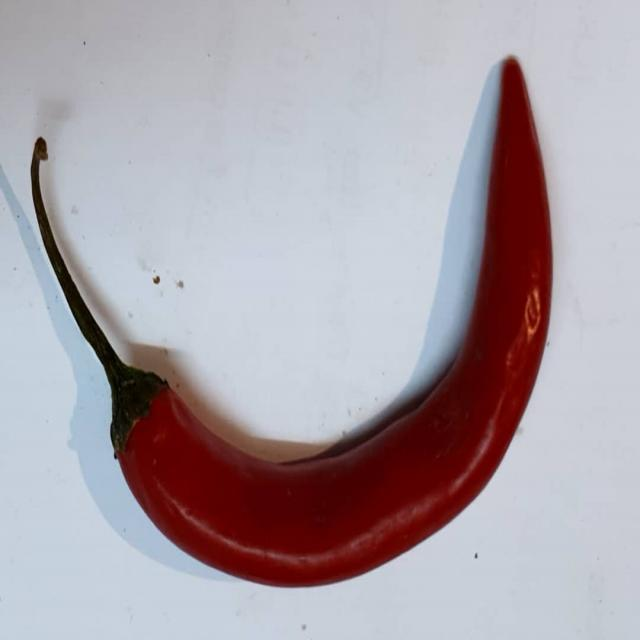red chili: (21, 54, 555, 588)
